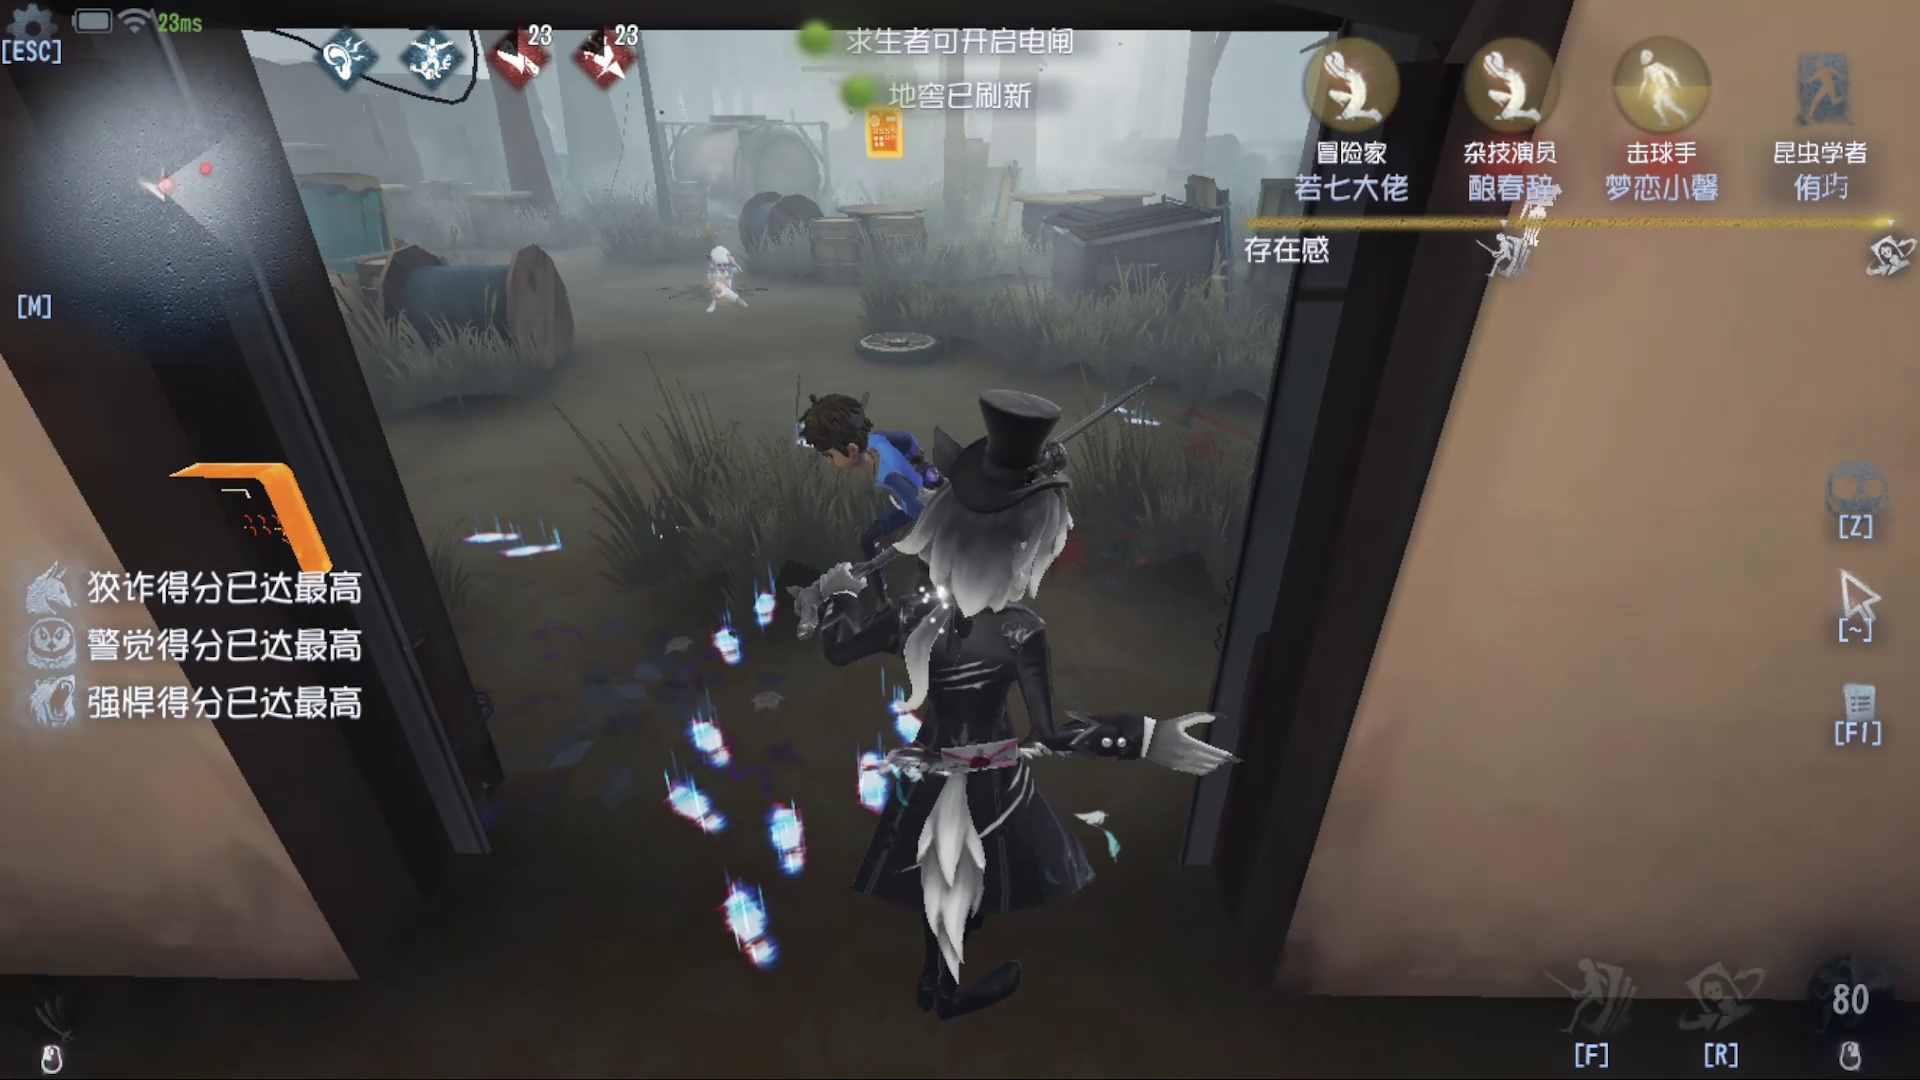木板: (278, 149, 423, 295), (1180, 148, 1255, 324), (973, 148, 1025, 256)
求生者: (782, 367, 976, 578), (688, 244, 764, 315)
